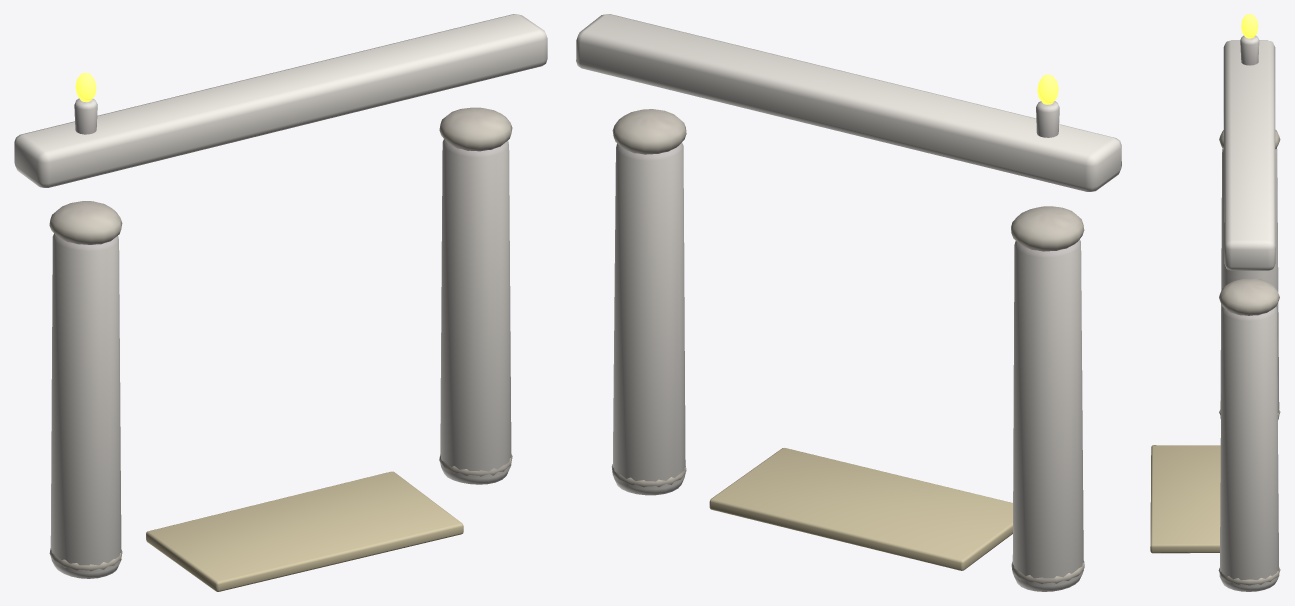
3 renders of one model, left to right at view 1: azimuth 30°, elevation 25°; view 2: azimuth 150°, elevation 25°; view 3: azimuth 270°, elevation 25°, orthographic. The views are drawn at different scales.
Visible parts, largest first — view 1: gate_4143b986; view 2: gate_4143b986; view 3: gate_4143b986.
Part boxes in pixels (x1,y1,x2,y2): gate_4143b986: (14,14,547,591); gate_4143b986: (576,14,1121,591); gate_4143b986: (1150,14,1280,591).
Size of the model in its own units: 4.93 by 4.59 by 1.31.
